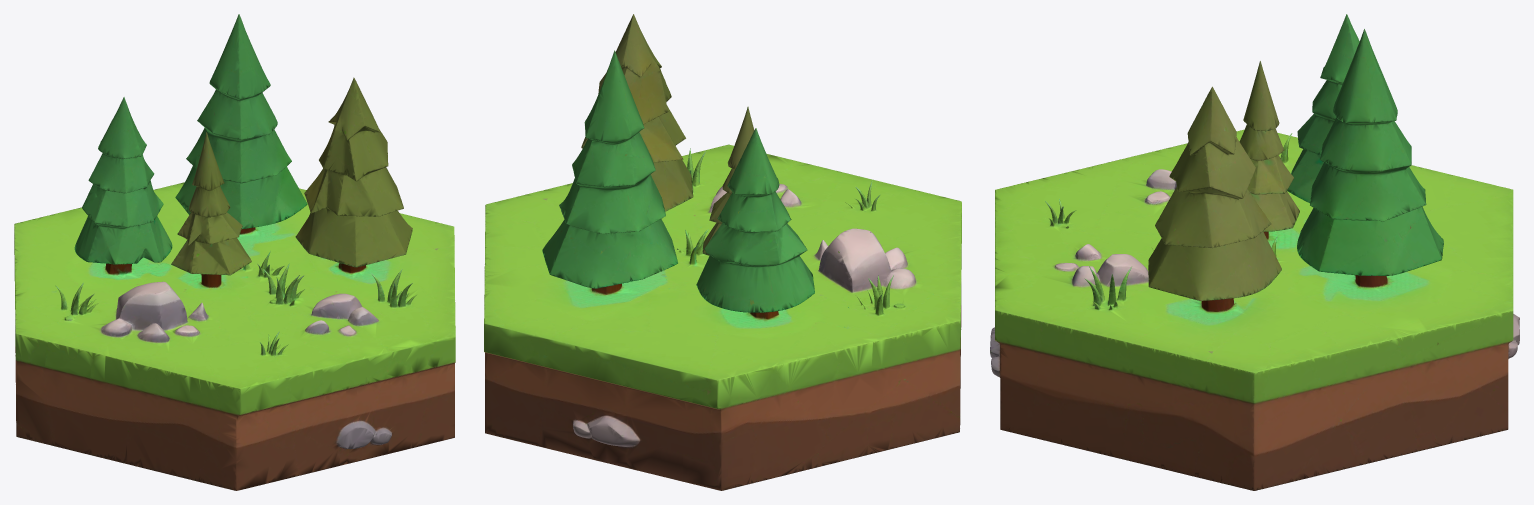
File: foresttile_lv2.glb
3 views of the same model, side by side, from view 1: azimuth 30°, elevation 25°; view 2: azimuth 150°, elevation 25°; view 3: azimuth 270°, elevation 25° (orthographic). The views are drawn at different scales.
Bounding box in the file's own units: 1.9 × 1.54 × 1.73.
Materials: 1 (1 with a texture image).
